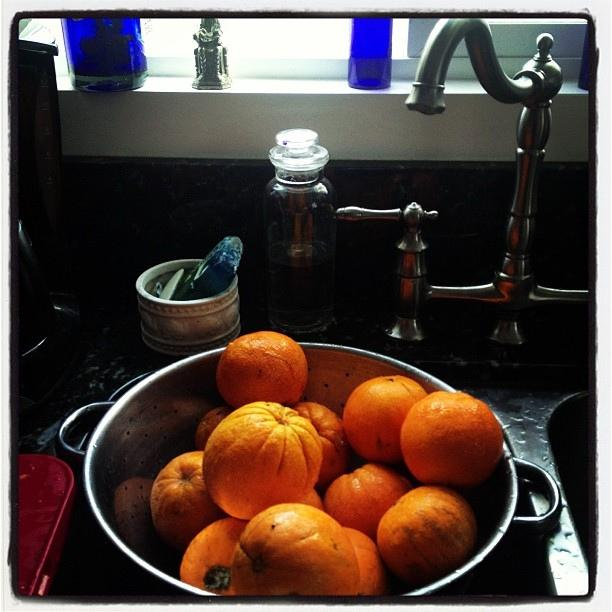orange: (202, 400, 322, 521), (230, 503, 360, 596), (375, 485, 476, 587), (400, 391, 503, 488), (150, 450, 231, 552), (343, 374, 428, 466), (216, 330, 309, 410), (323, 463, 405, 544), (179, 517, 250, 595), (292, 402, 353, 488), (342, 527, 386, 596), (194, 406, 235, 451), (297, 488, 324, 512)
